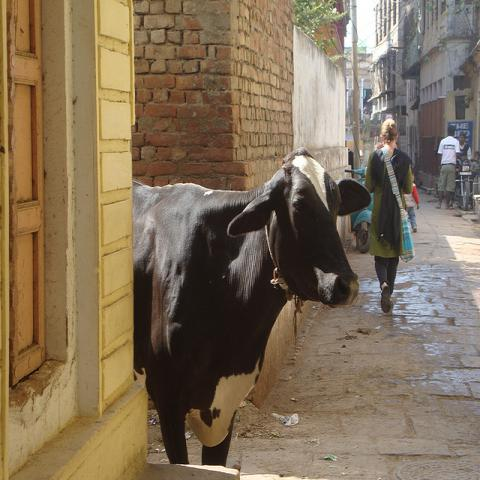motorcycle: (352, 192, 374, 253), (456, 159, 476, 210)
